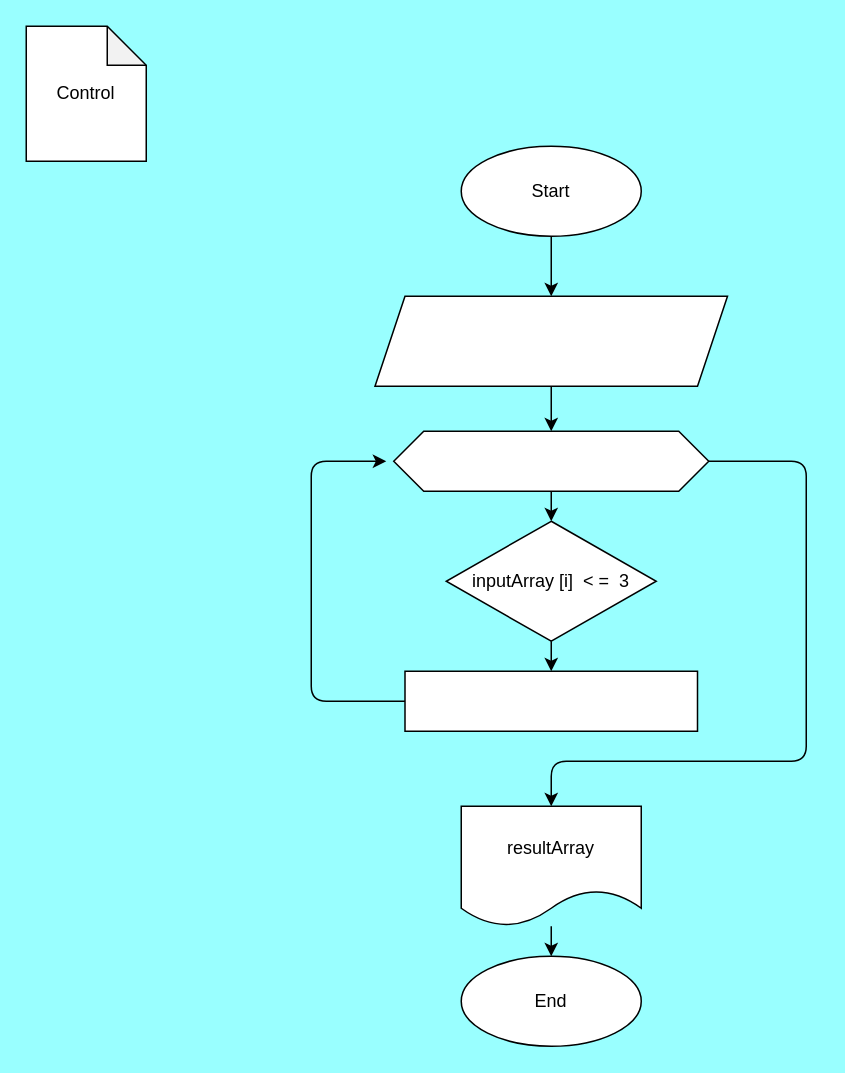
The diagram is 845 pixels wide and 1073 high, and some of its shapes have lost their labels. The shapes that lost their labels are listed below. From the top down, each one's centre as x and y in pixels, then its label:
At (x=551, y=340): "inputArray [ word, vr, massala, 69 ] resultArray[ ] count = 0".
At (x=550, y=460): "i = 0, i < inputArray, i++".
At (x=551, y=700): "resultArray[ count] = inputArray[i] count++".
